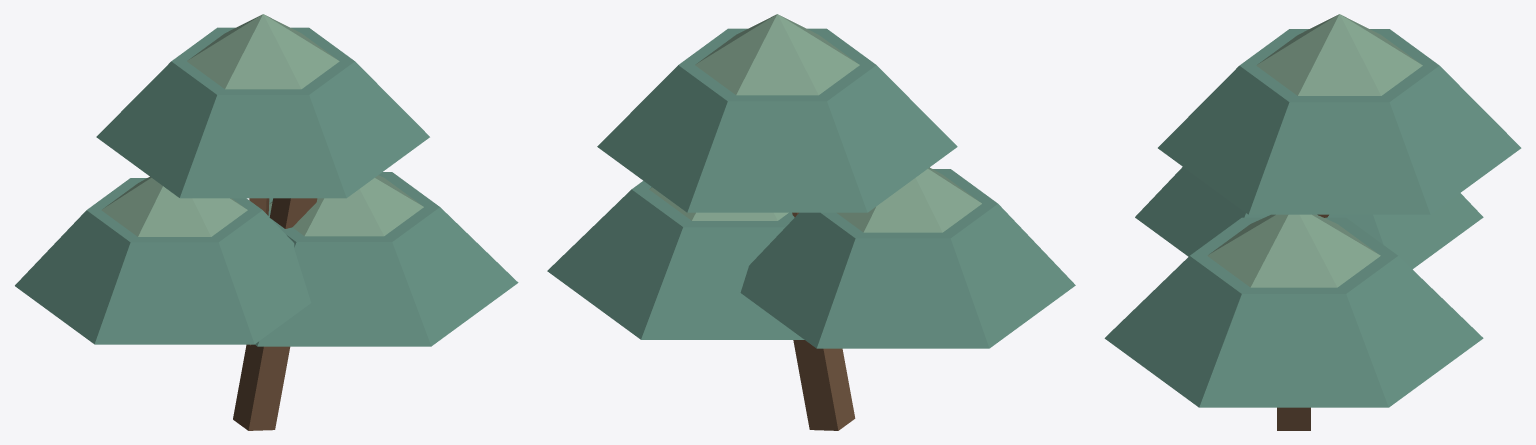
File: Prop_RitualShrub.fbx
3 renders of one model, left to right at view 1: azimuth 30°, elevation 25°; view 2: azimuth 150°, elevation 25°; view 3: azimuth 270°, elevation 25°, orthographic. The views are drawn at different scales.
Visible parts, largest first — view 1: Prop_RitualShrub; view 2: Prop_RitualShrub; view 3: Prop_RitualShrub.
Boxes of the visible parts, x1,y1,x2,y2 form: Prop_RitualShrub: (15,14,518,430); Prop_RitualShrub: (547,14,1075,430); Prop_RitualShrub: (1104,14,1521,430).
Bounding box in the file's own units: 0.6857 × 0.6194 × 0.55.
